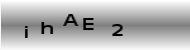2: (110, 23, 123, 36)
A: (61, 13, 78, 26)
E: (82, 17, 95, 30)
h: (39, 21, 54, 34)
i: (23, 24, 29, 39)
